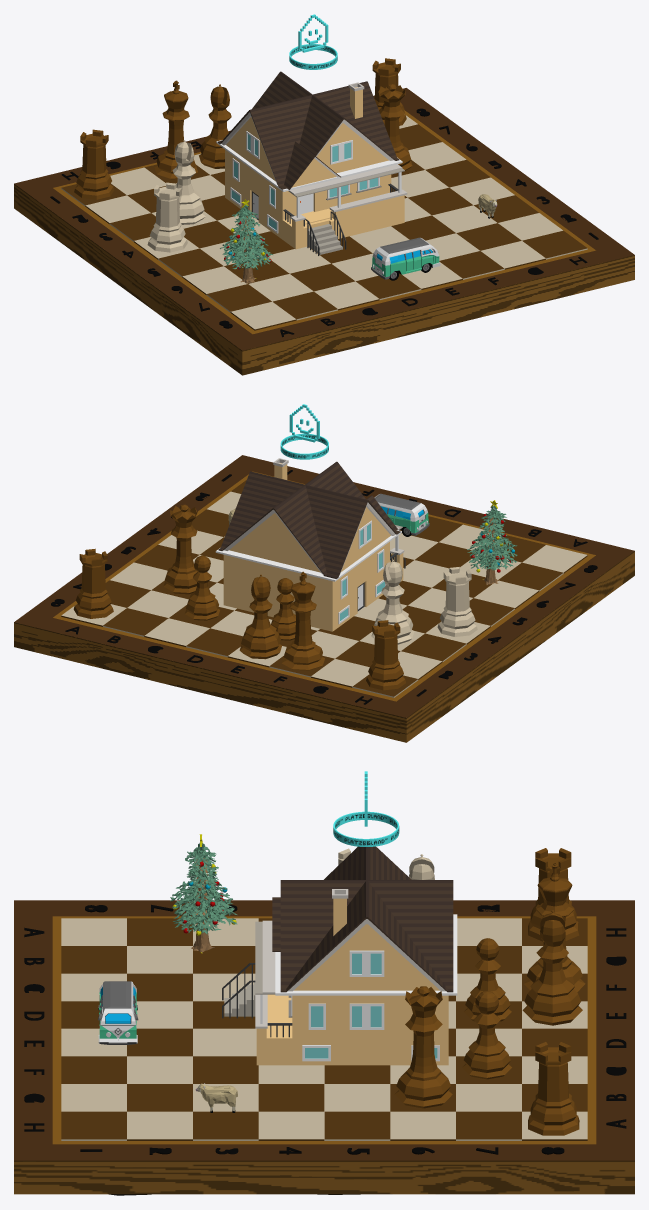
3 renders of one model, top to bottom at view 1: azimuth 30°, elevation 25°; view 2: azimuth 150°, elevation 25°; view 3: azimuth 270°, elevation 25°, orthographic. The views are drawn at different scales.
Parts seen in each view (by area): view 1: Cube.002, Cube.235, OBJRANDOM_CHRISTMAS_TREE, VEHICLES_VAN, TYPE_PREMIUM; view 2: Cube.002, Cube.235, OBJRANDOM_CHRISTMAS_TREE, VEHICLES_VAN, TYPE_PREMIUM; view 3: Cube.002, Cube.235, OBJRANDOM_CHRISTMAS_TREE, VEHICLES_VAN, TYPE_PREMIUM, ANIMAL_OVEJA.
Boxes of the visible parts, x1,y1,x2,y2 form: Cube.002: (14, 58, 634, 375); Cube.235: (216, 71, 407, 255); OBJRANDOM_CHRISTMAS_TREE: (220, 199, 272, 283); VEHICLES_VAN: (371, 237, 440, 280); TYPE_PREMIUM: (289, 14, 337, 69); Cube.002: (14, 455, 634, 742); Cube.235: (215, 458, 405, 631); OBJRANDOM_CHRISTMAS_TREE: (467, 500, 517, 584); VEHICLES_VAN: (374, 493, 429, 536); TYPE_PREMIUM: (280, 404, 328, 459); Cube.002: (14, 848, 634, 1194); Cube.235: (222, 846, 457, 1065); OBJRANDOM_CHRISTMAS_TREE: (170, 834, 237, 953); VEHICLES_VAN: (98, 981, 138, 1044); TYPE_PREMIUM: (333, 771, 399, 846); ANIMAL_OVEJA: (195, 1083, 237, 1112).
Size of the model in its own units: 3981 by 2151 by 4012.
Materials: 41 (3 with a texture image).
